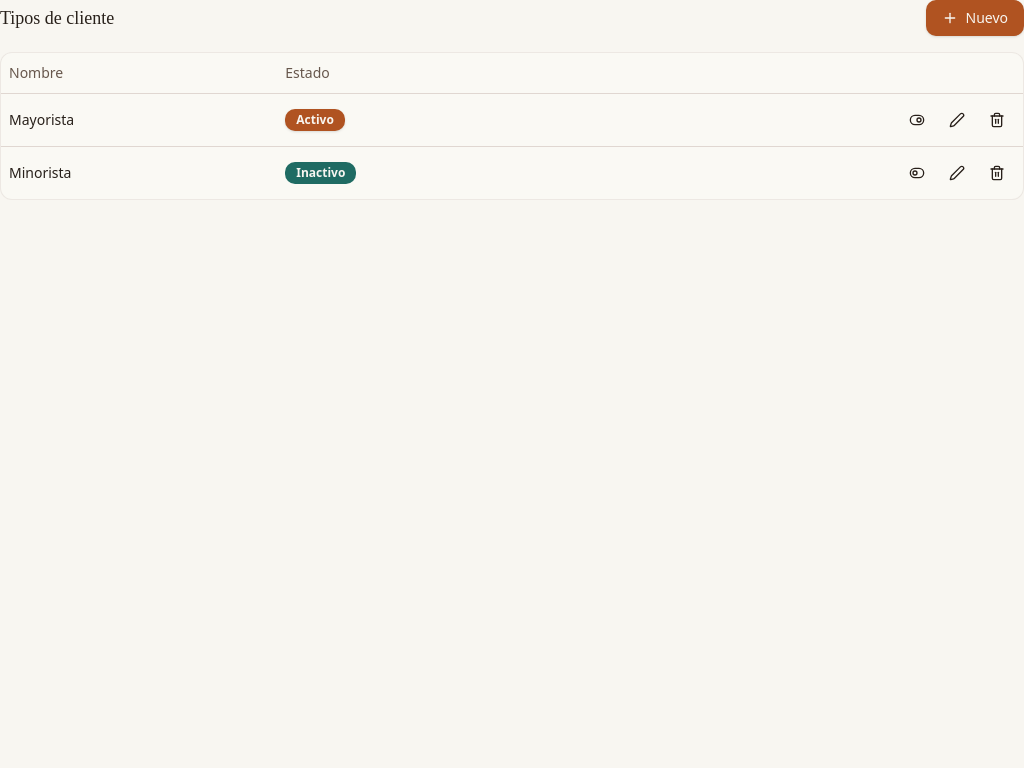
Test: CatalogoManager › elimina tras confirmar
The width and height of the screenshot is (1024, 768).
Expected: the text "Mayorista" is shown, [1,93,277,146]
Click the button named "Eliminar Mayorista": x=997, y=120 [979,102,1015,138]
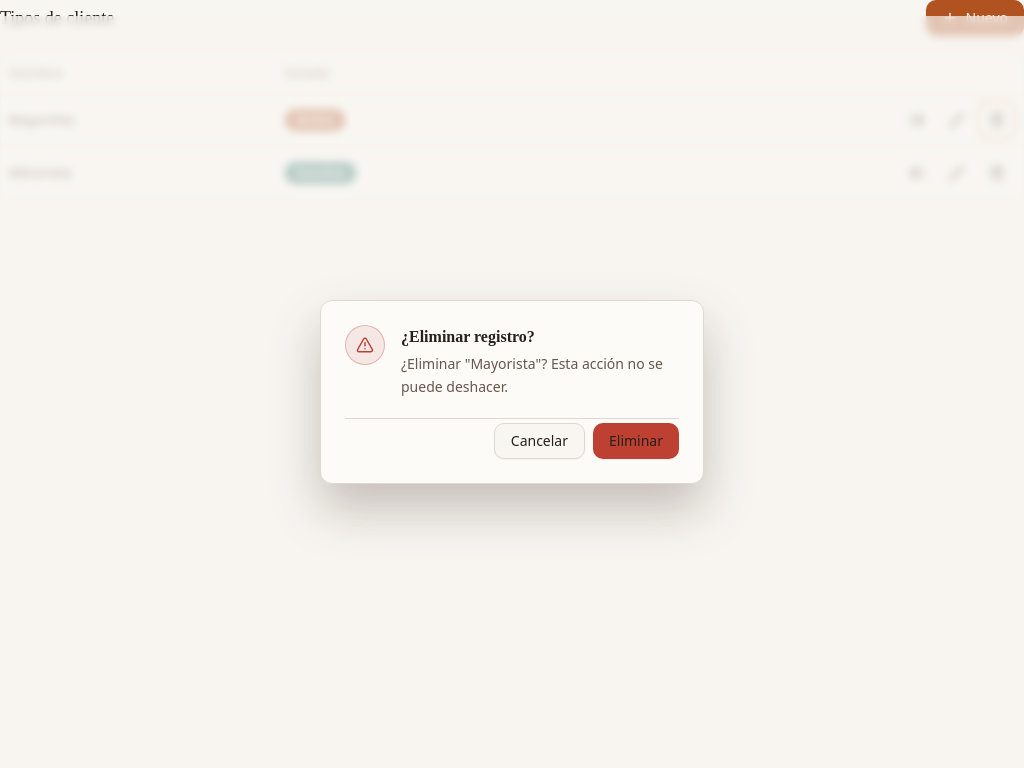
Click the button "Eliminar": x=636, y=441 [593,423,679,459]
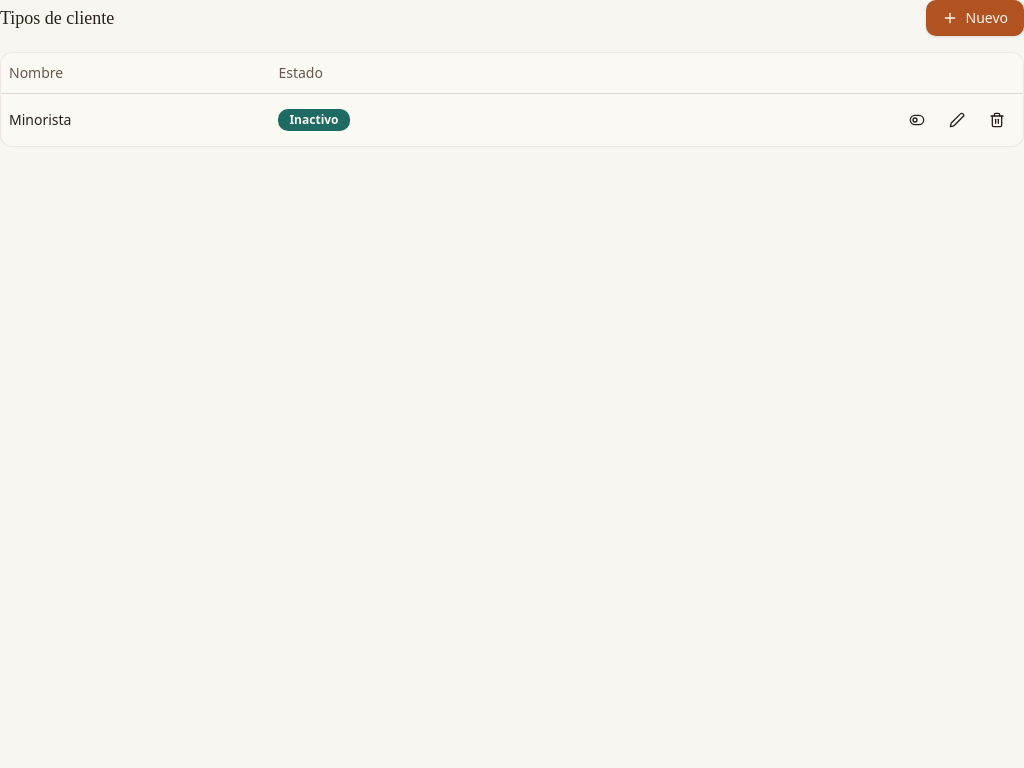
Result: the text "Mayorista" is gone
